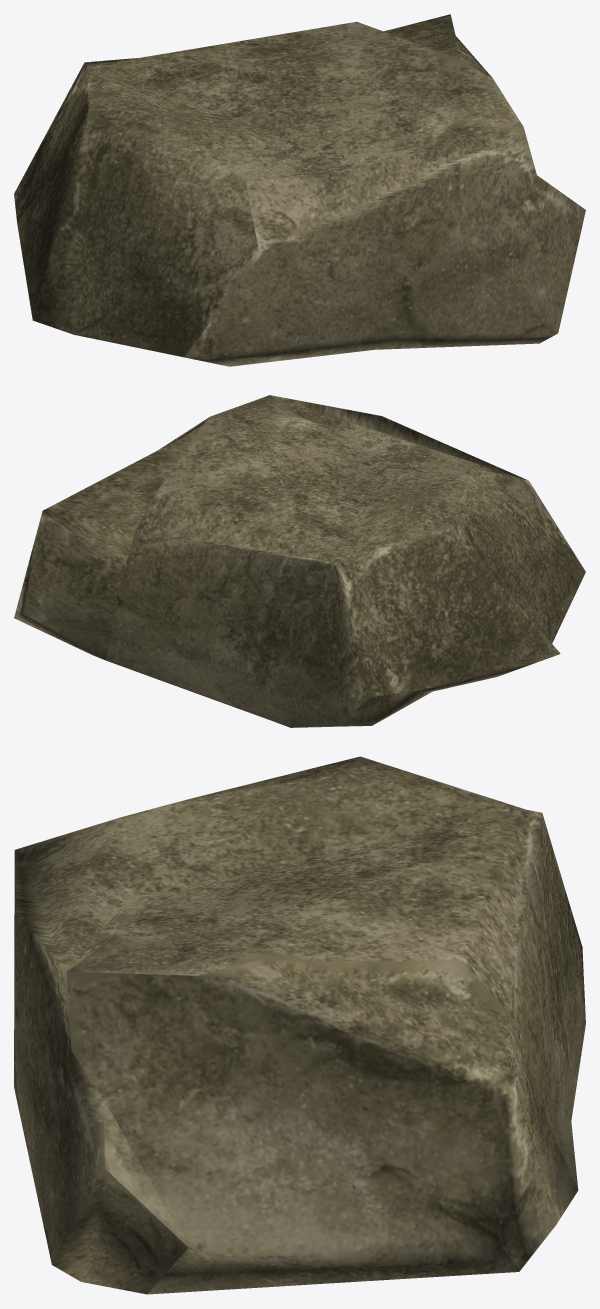
File: SM_GLG_Rock_02_A.glb
The picture shows the model from 3 angles, top to bottom: view 1: azimuth 30°, elevation 25°; view 2: azimuth 150°, elevation 25°; view 3: azimuth 270°, elevation 25°; orthographic projection. The views are drawn at different scales.
Visible parts, largest first — view 1: SM_GLG_Rock_02_A; view 2: SM_GLG_Rock_02_A; view 3: SM_GLG_Rock_02_A.
Boxes of the visible parts, x1,y1,x2,y2 form: SM_GLG_Rock_02_A: (14,14,585,366); SM_GLG_Rock_02_A: (14,395,585,727); SM_GLG_Rock_02_A: (14,756,585,1294).
Size of the model in its own units: 1.78 by 0.7625 by 1.24.
Materials: 1 (1 with a texture image).
